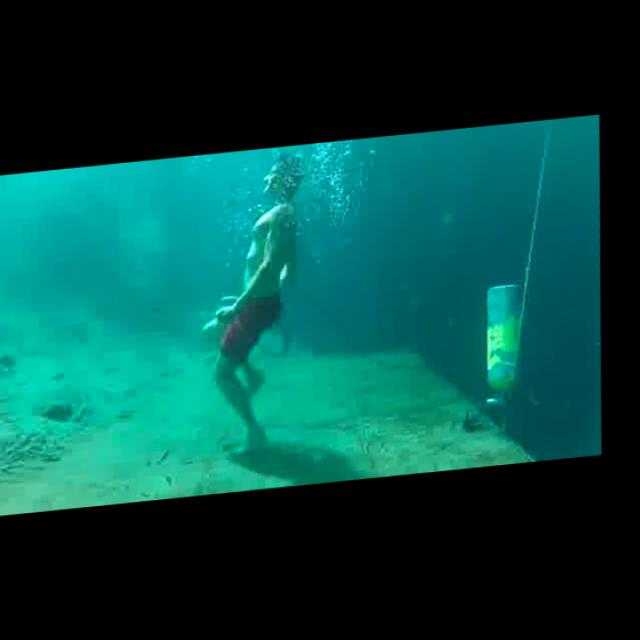human: (181, 150, 338, 459)
